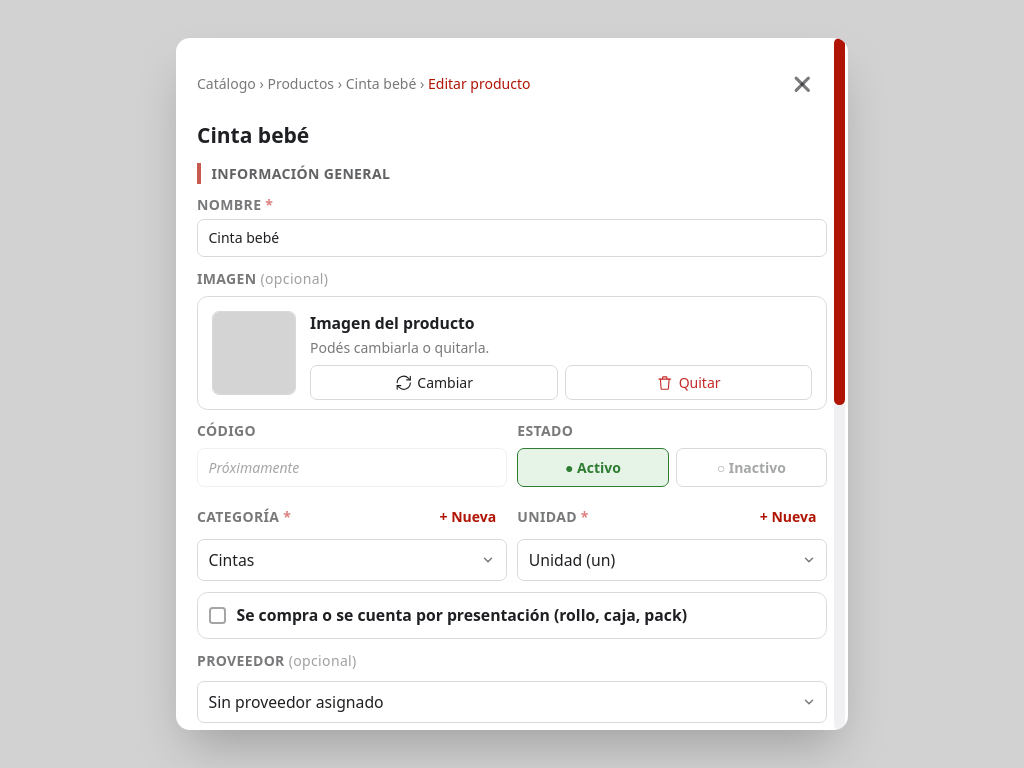
Test: ProductDetailPage › shows the breadcrumb for the nested new category and new unit modals
Expected: the field labelled "Nombre *" is shown, x1=197 y1=219 x2=827 y2=257
Click the button "+ Nueva" next to "Categoría" at (468, 516), box x1=429 y1=497 x2=507 y2=536
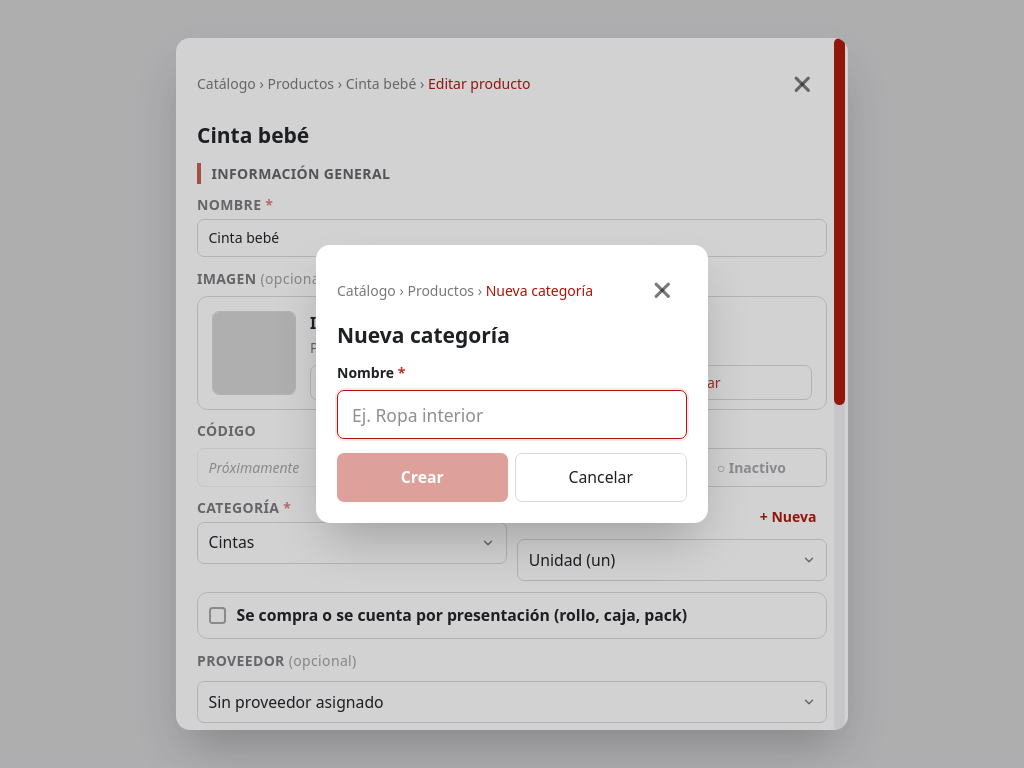
Result: the element showing "Catálogo › Productos › Nueva categoría" is shown at x1=337 y1=281 x2=593 y2=300
Click the button "Cancelar" at (601, 478), box x1=514 y1=453 x2=687 y2=502
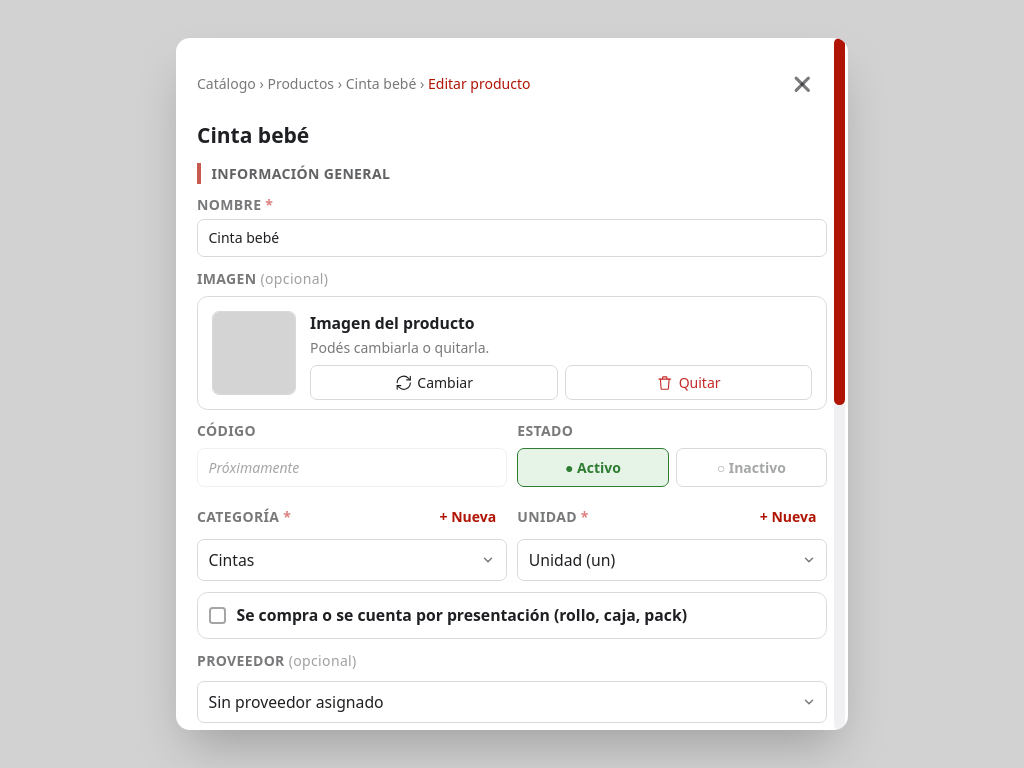
Click the 2nd button "+ Nueva" at (788, 516), box x1=749 y1=497 x2=827 y2=536
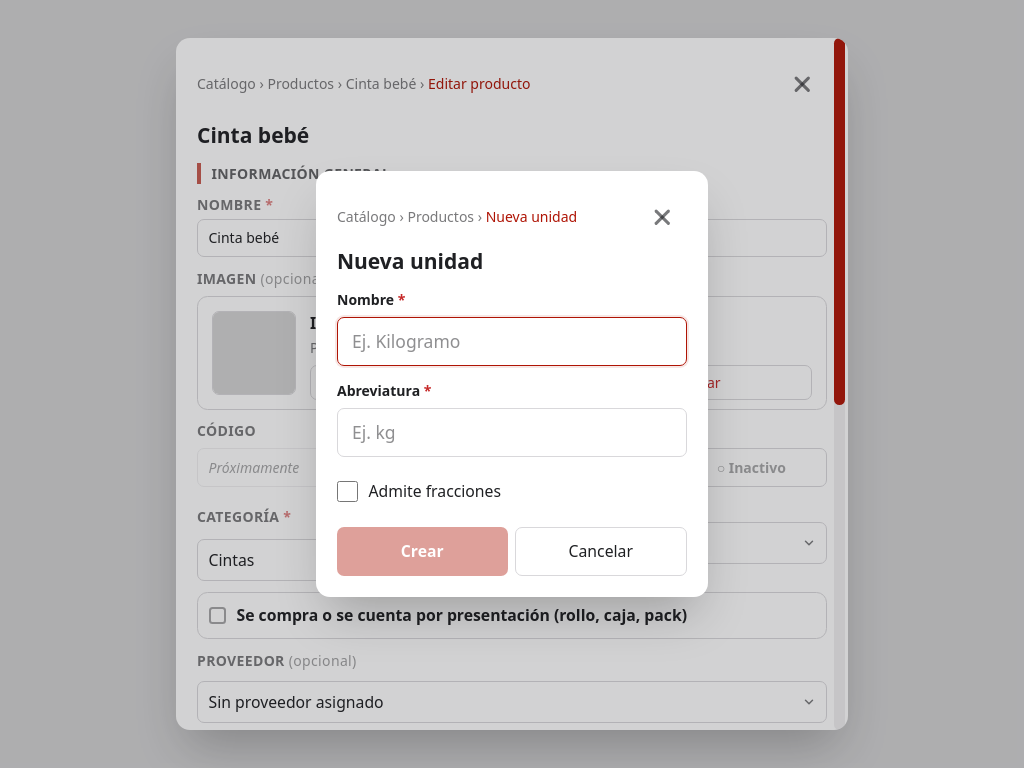
Result: the element showing "Catálogo › Productos › Nueva unidad" is shown at x1=337 y1=207 x2=577 y2=227
